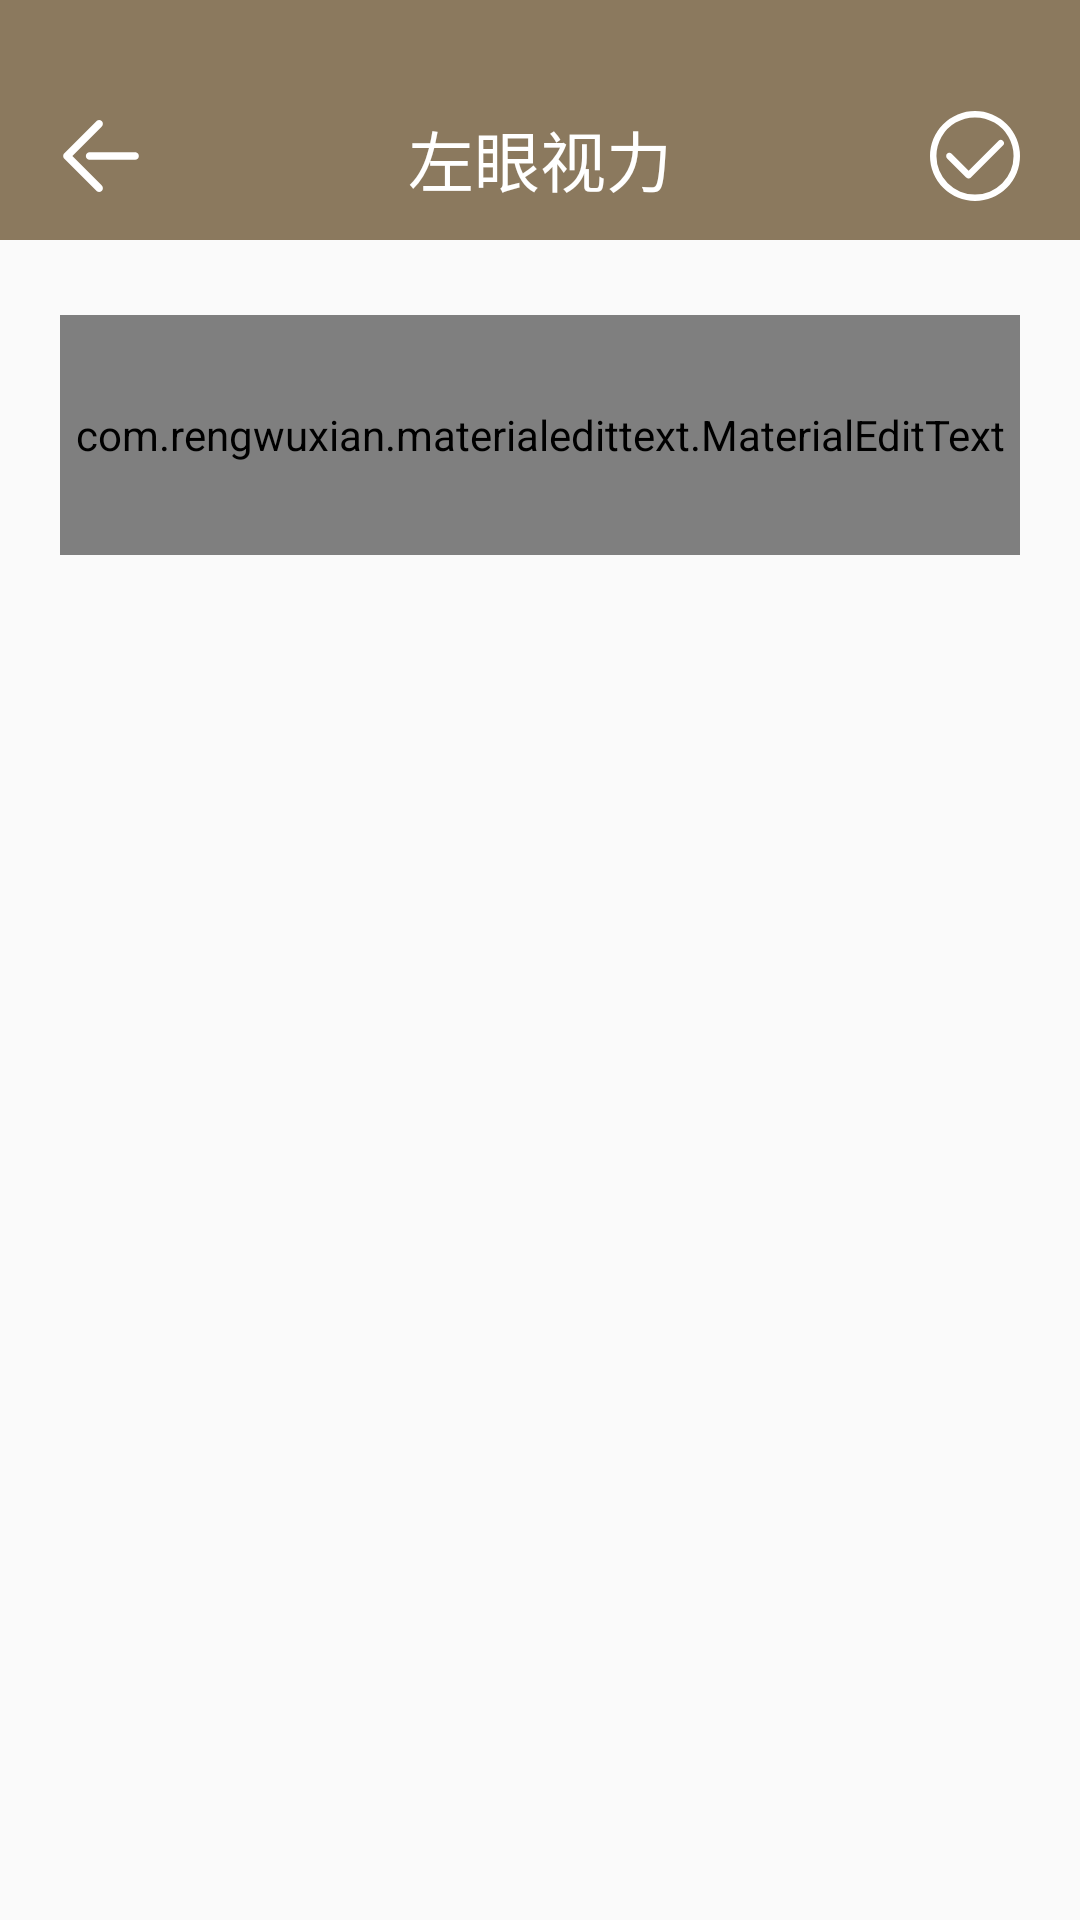

Screen size 1080 × 1920. Icon name, then its center in pixels as [x,y]:
back: [101,156]
save: [975,156]
